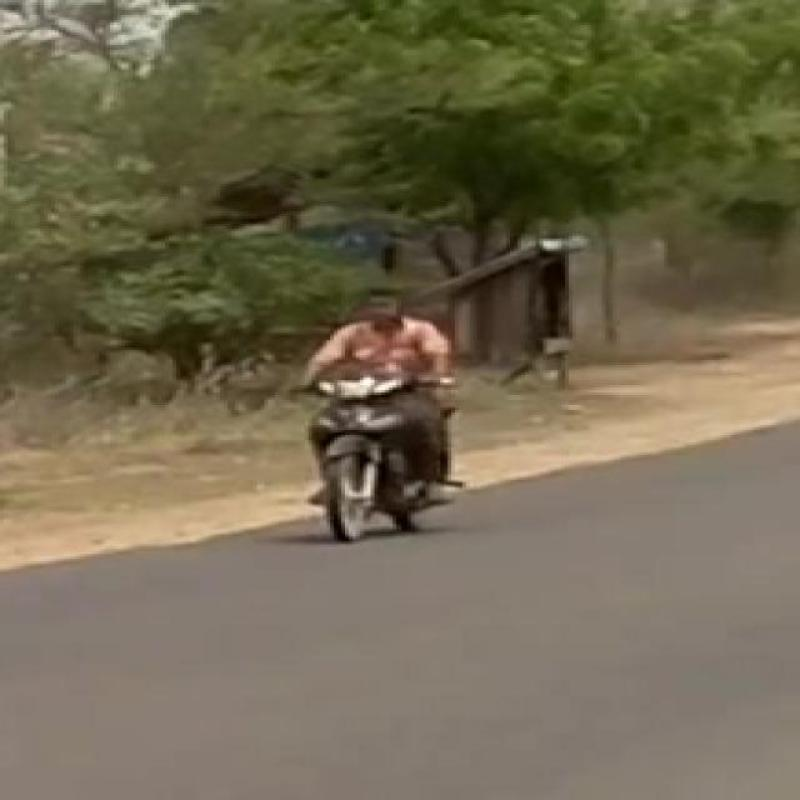nohelmet: (332, 283, 453, 357)
